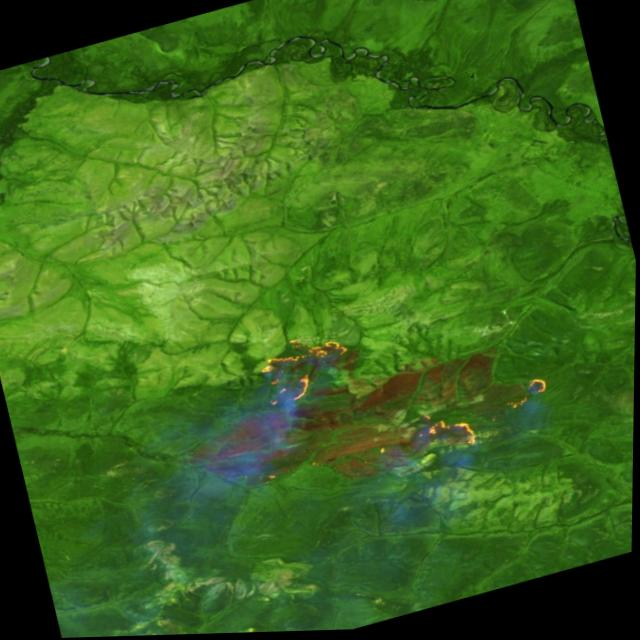fire: (230, 323, 367, 425), (398, 400, 488, 470), (497, 362, 563, 422)
